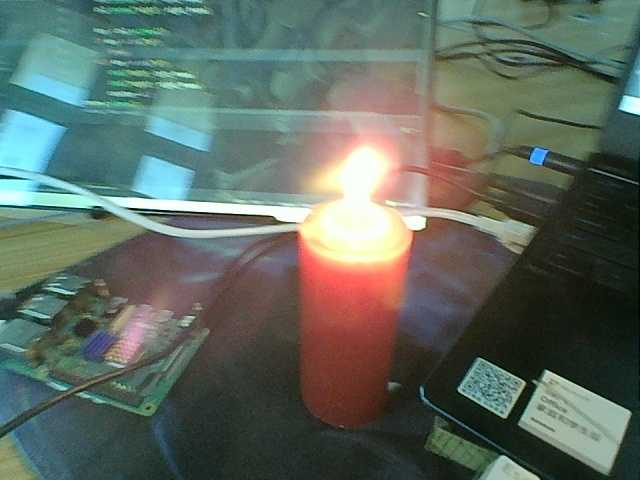candle: (288, 243, 401, 432)
fire: (315, 148, 399, 243)
